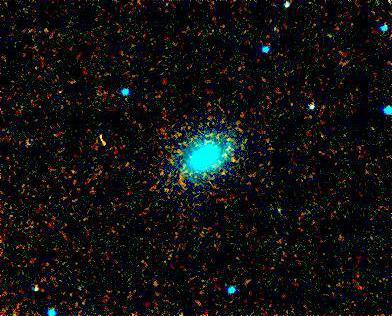star: (217, 145, 247, 175)
